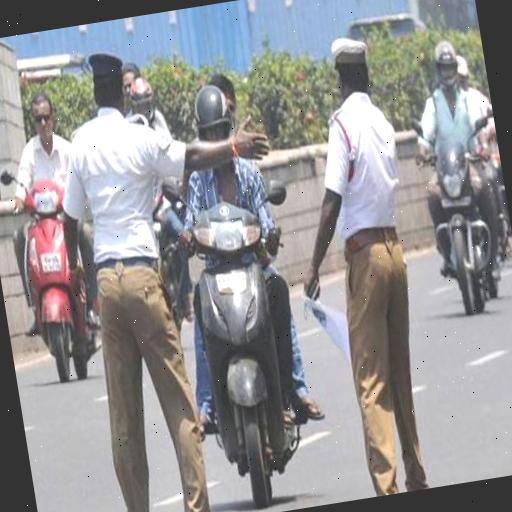helmet: (157, 61, 304, 489), (394, 22, 510, 329)
no helmet: (0, 75, 107, 384)
